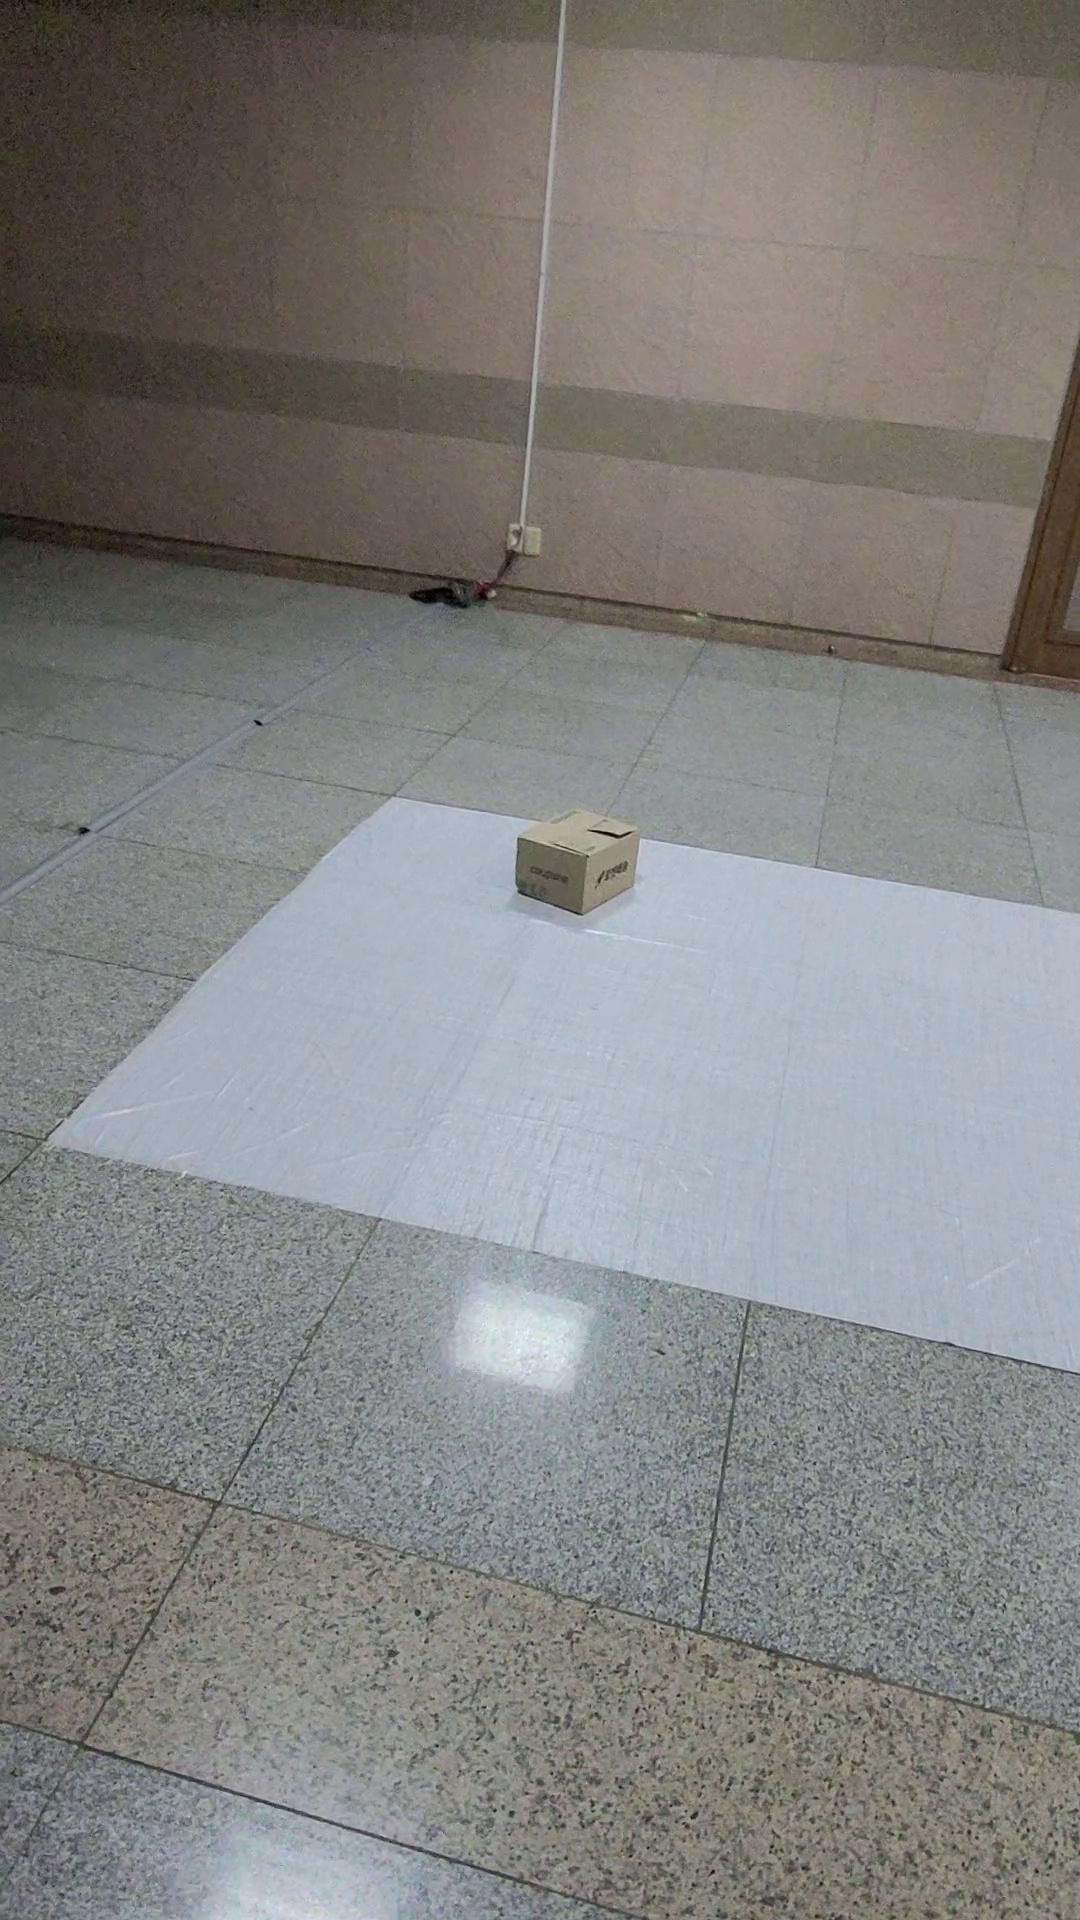Box: (498, 795, 712, 942)
